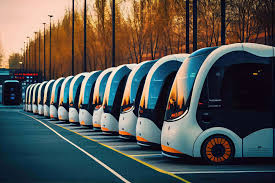bus: (161, 41, 275, 163), (136, 52, 186, 146), (118, 58, 155, 139), (101, 64, 137, 133), (93, 67, 117, 129), (79, 69, 101, 128), (67, 71, 86, 124), (58, 75, 71, 122), (50, 78, 61, 119), (43, 80, 53, 115), (38, 82, 44, 114), (31, 82, 37, 112), (29, 83, 34, 113), (26, 83, 30, 111)
